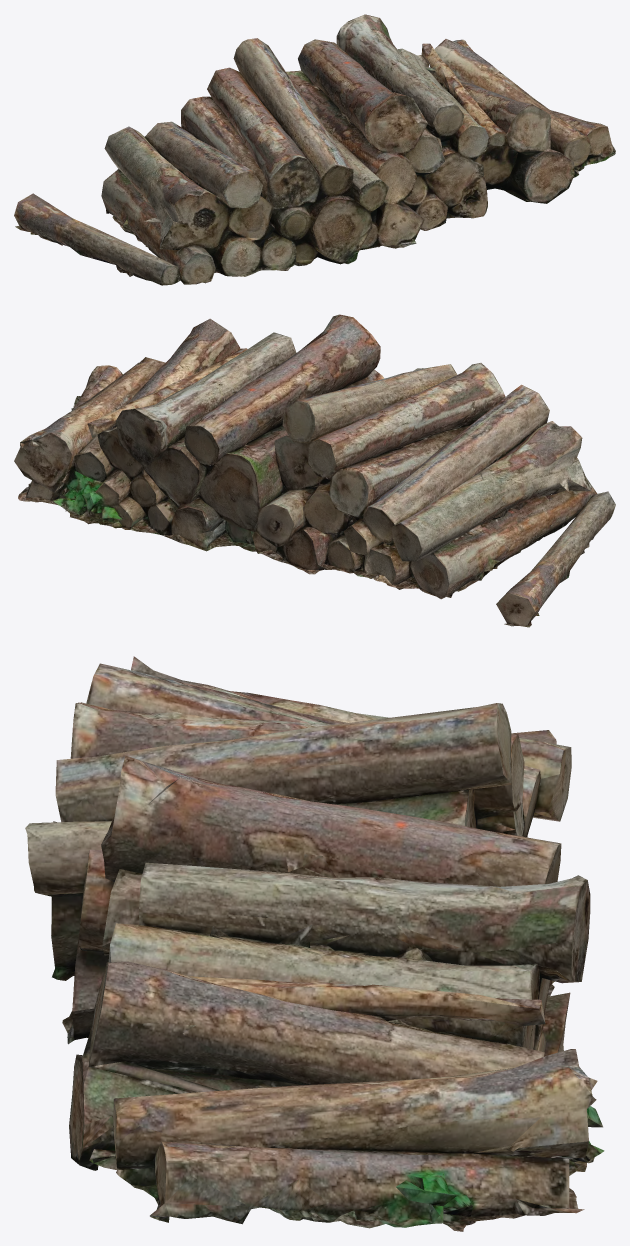
Rendered from logpile.glb.
3 renders of one model, top to bottom at view 1: azimuth 30°, elevation 25°; view 2: azimuth 150°, elevation 25°; view 3: azimuth 270°, elevation 25°, orthographic. The views are drawn at different scales.
Visible parts, largest first — view 1: Log Pile; view 2: Log Pile; view 3: Log Pile.
Boxes of the visible parts, x1=… form: Log Pile: x1=14, y1=14, x2=615, y2=285; Log Pile: x1=14, y1=314, x2=615, y2=627; Log Pile: x1=25, y1=656, x2=604, y2=1231.
Size of the model in its own units: 4.36 by 1.2 by 2.16.
Materials: 1 (1 with a texture image).
